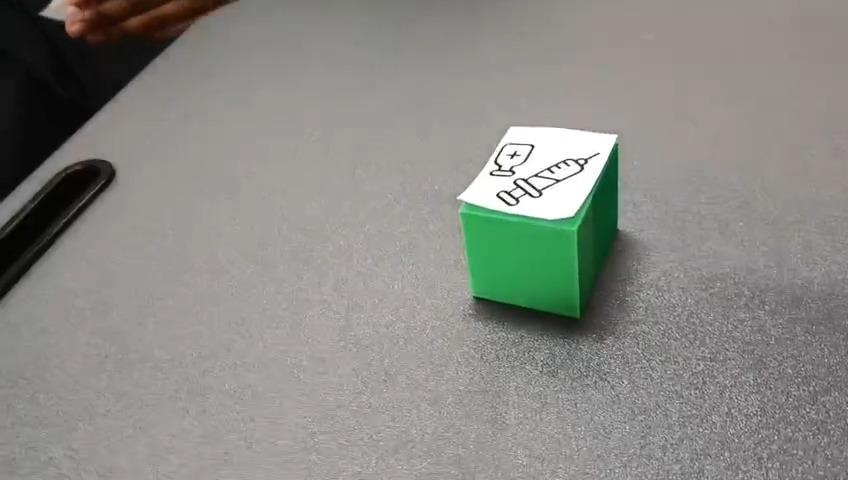antiseptic cream: (455, 123, 620, 320)
